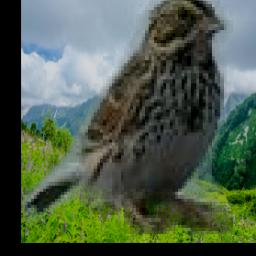Sparrow: (22, 0, 232, 234)
